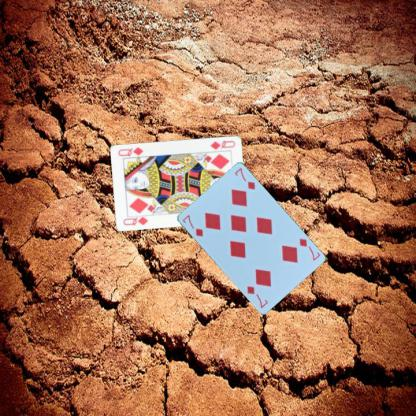7d: (297, 236, 322, 262), (180, 212, 204, 238)
Qd: (121, 212, 151, 227), (208, 137, 236, 151)
